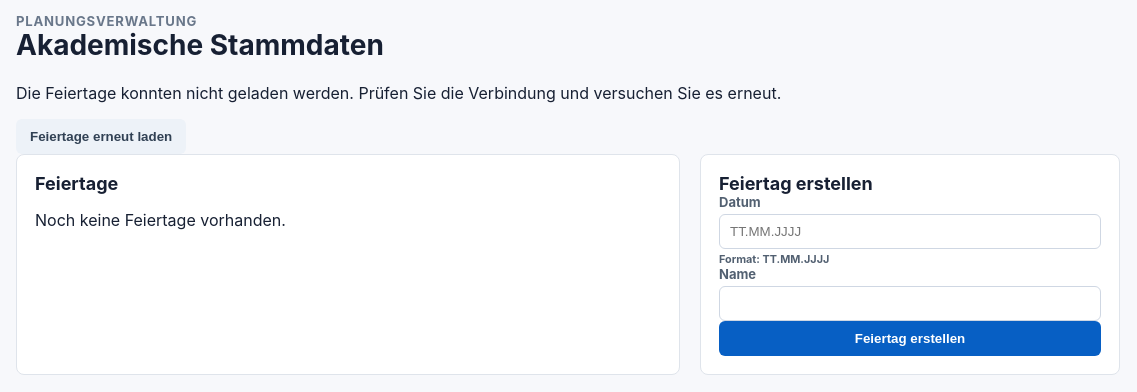
Test case: HolidayAdministration › offers an accessible retry after the initial list request fails
The width and height of the screenshot is (1137, 392).
expect the message shows "Verbindung": met, box [16,83,781,103]
Step 1. Click the button "Feiertage erneut laden" → (101, 136), box [16,119,186,154]
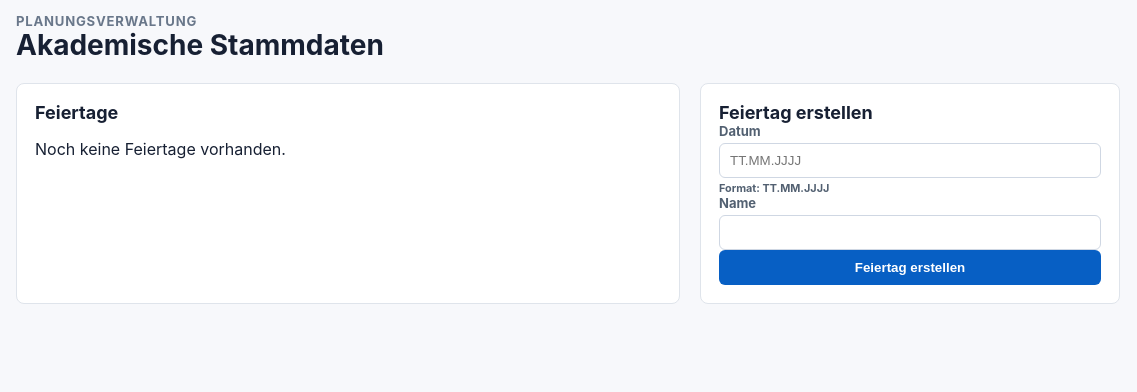
expect the text "Noch keine Feiertage vorhanden" is shown: met, box [35,139,286,159]
expect the message is gone: met
